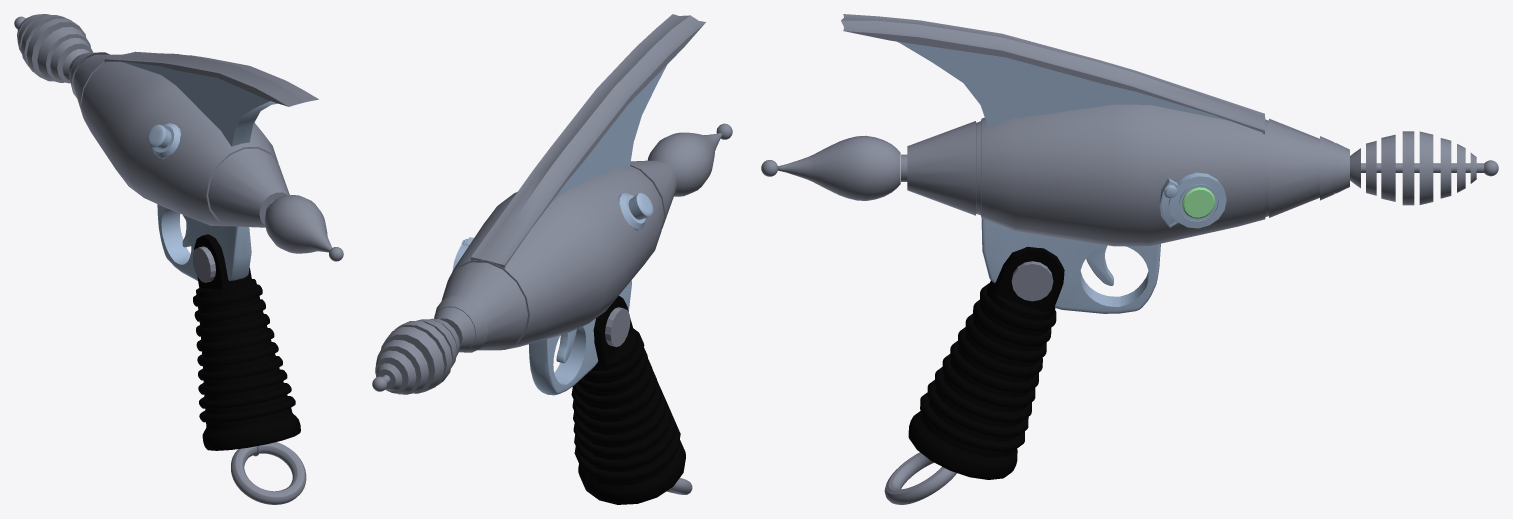
File: SpaceGun.fbx
3 views of the same model, side by side, from view 1: azimuth 30°, elevation 25°; view 2: azimuth 150°, elevation 25°; view 3: azimuth 270°, elevation 25° (orthographic). The views are drawn at different scales.
Parts seen in each view (by area): view 1: Sphere; view 2: Sphere; view 3: Sphere.
Boxes of the visible parts, box(x1,y1,x2,y2) form: Sphere: box(14, 14, 343, 504); Sphere: box(372, 14, 732, 504); Sphere: box(761, 14, 1498, 504).
Bounding box in the file's own units: 129 × 413 × 578.
